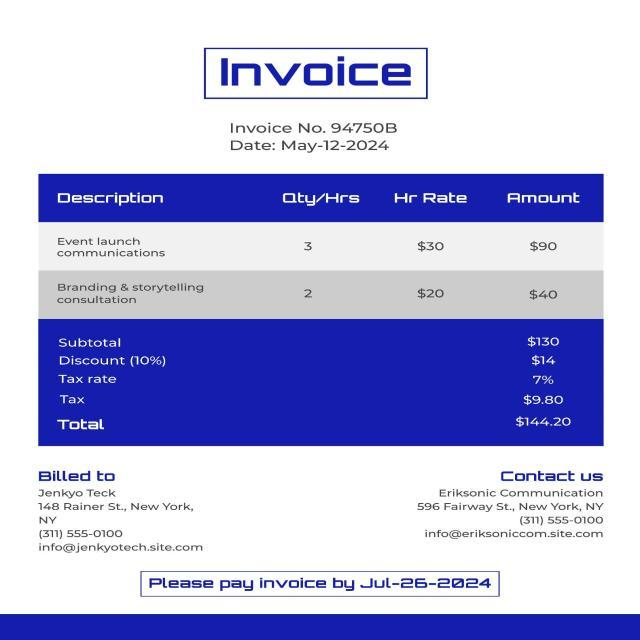ROI: (39, 174, 602, 323), (53, 333, 588, 437), (34, 462, 215, 558), (410, 462, 611, 544), (140, 570, 502, 598), (209, 52, 422, 94), (226, 123, 407, 156)
